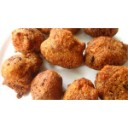bonda: (42, 28, 84, 68), (86, 35, 128, 68), (4, 55, 34, 94), (97, 66, 128, 97), (31, 72, 63, 100), (66, 78, 97, 103), (10, 29, 41, 54)
